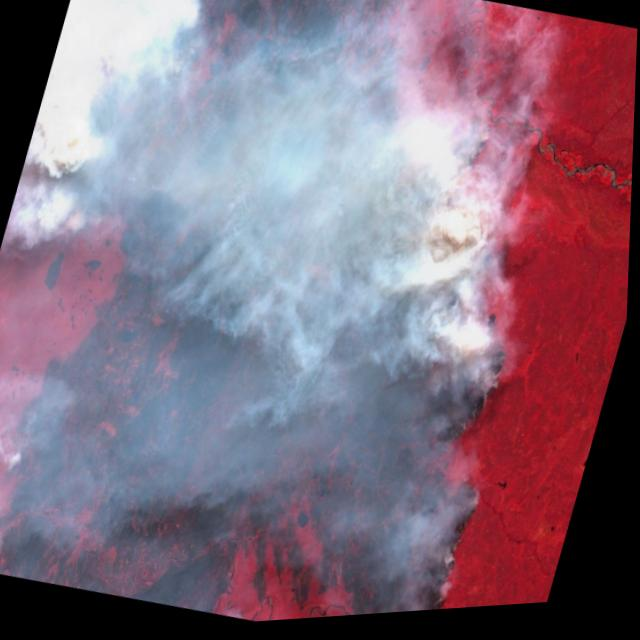fire: (403, 474, 501, 618), (441, 318, 526, 466), (0, 521, 8, 573)
